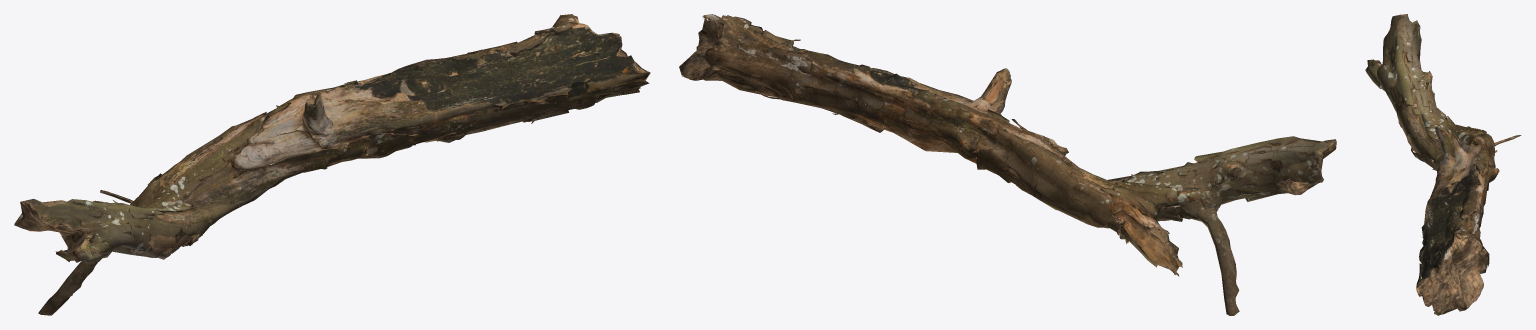
Rendered from dead_tree_trunk_02_lod.glb.
3 renders of one model, left to right at view 1: azimuth 30°, elevation 25°; view 2: azimuth 150°, elevation 25°; view 3: azimuth 270°, elevation 25°, orthographic. The views are drawn at different scales.
Parts seen in each view (by area): view 1: dead_tree_trunk_02; view 2: dead_tree_trunk_02; view 3: dead_tree_trunk_02.
Part boxes in pixels (box(x1,y1,x2,y2)): dead_tree_trunk_02: box(14, 14, 650, 315); dead_tree_trunk_02: box(679, 14, 1336, 315); dead_tree_trunk_02: box(1365, 14, 1521, 315).
Bounding box in the file's own units: 4.05 × 1.06 × 1.05.
1 material, 1 textured.
